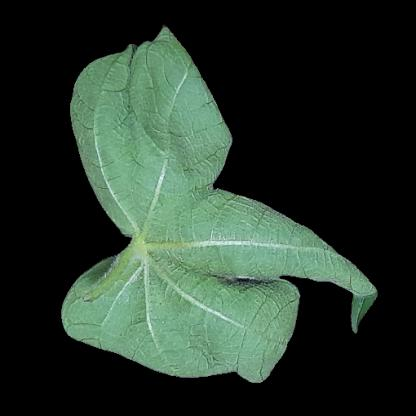curl_stage2: (132, 229, 257, 370), (90, 83, 206, 210), (256, 206, 323, 287)
